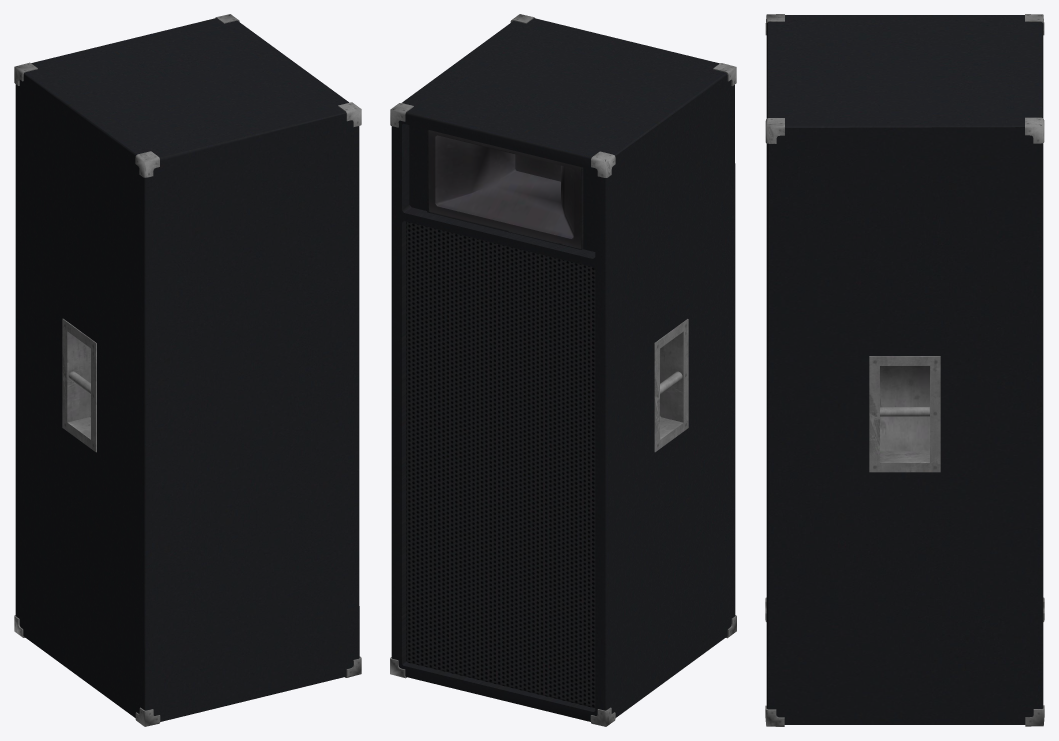
File: Speakers04 (1).fbx
3 renders of one model, left to right at view 1: azimuth 30°, elevation 25°; view 2: azimuth 150°, elevation 25°; view 3: azimuth 270°, elevation 25°, orthographic. The views are drawn at different scales.
Parts seen in each view (by area): view 1: Speakers04 (1); view 2: Speakers04 (1); view 3: Speakers04 (1).
Part boxes in pixels (<box>): Speakers04 (1): <box>14,14,361,726</box>; Speakers04 (1): <box>390,14,736,726</box>; Speakers04 (1): <box>765,14,1044,726</box>.
Size of the model in its own units: 0.6107 by 0.6373 by 1.53.
